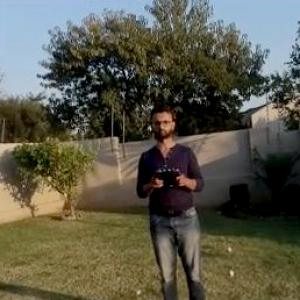follow: (130, 98, 226, 299)
